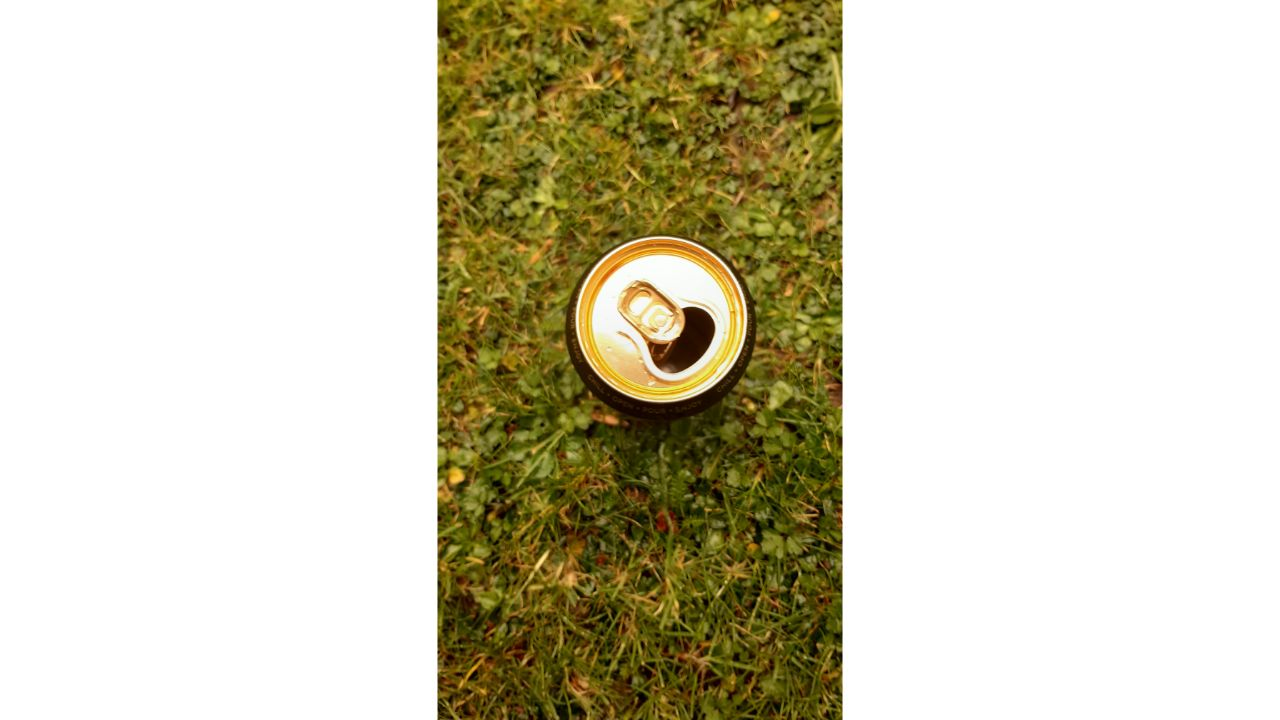Can: (549, 214, 770, 438)
